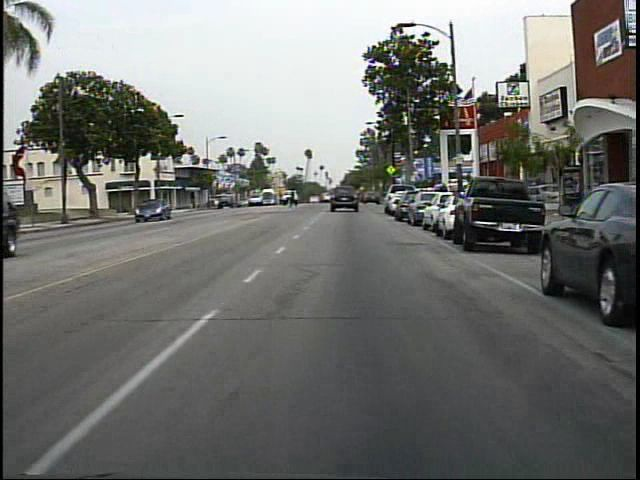person: (434, 179, 453, 217), (286, 185, 300, 213)
